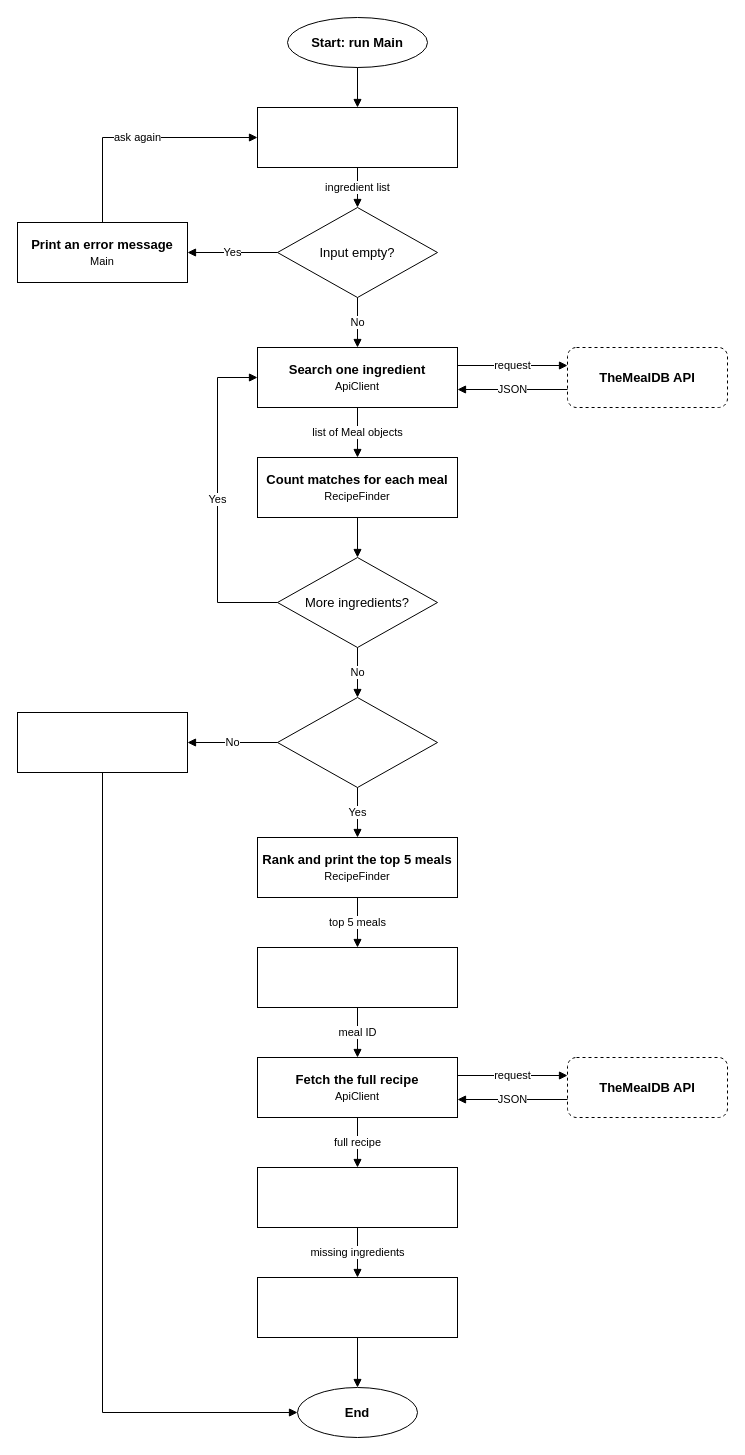
The diagram is 745 pixels wide and 1455 high, and some of its shapes have lost their labels. Here are the shapes that lost their labels. From the top down, the centre of each, then its label:
At (357,137): "Read the user's ingredients Main".
At (102,742): "Print no meals found Main".
At (357,742): "Any meals found?".
At (357,977): "User picks a meal Main".
At (357,1197): "Mark missing ingredients RecipeFinder".
At (357,1307): "Print recipe and instructions Main".
